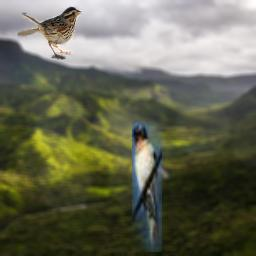Sparrow: (17, 6, 82, 60)
Swallow: (132, 122, 162, 252)
